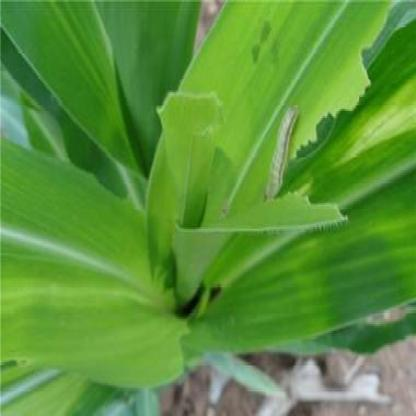armyworm: (264, 96, 303, 204)
